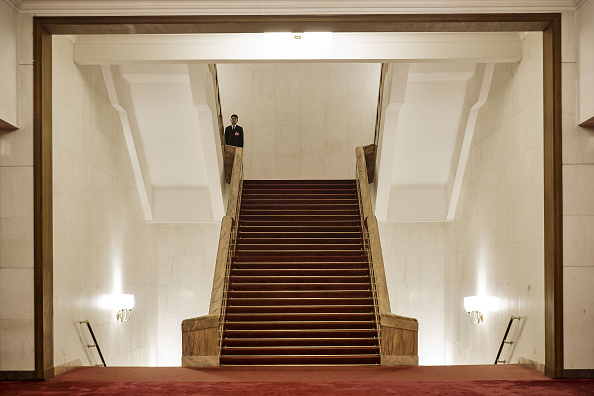em pe: (223, 106, 247, 184)
